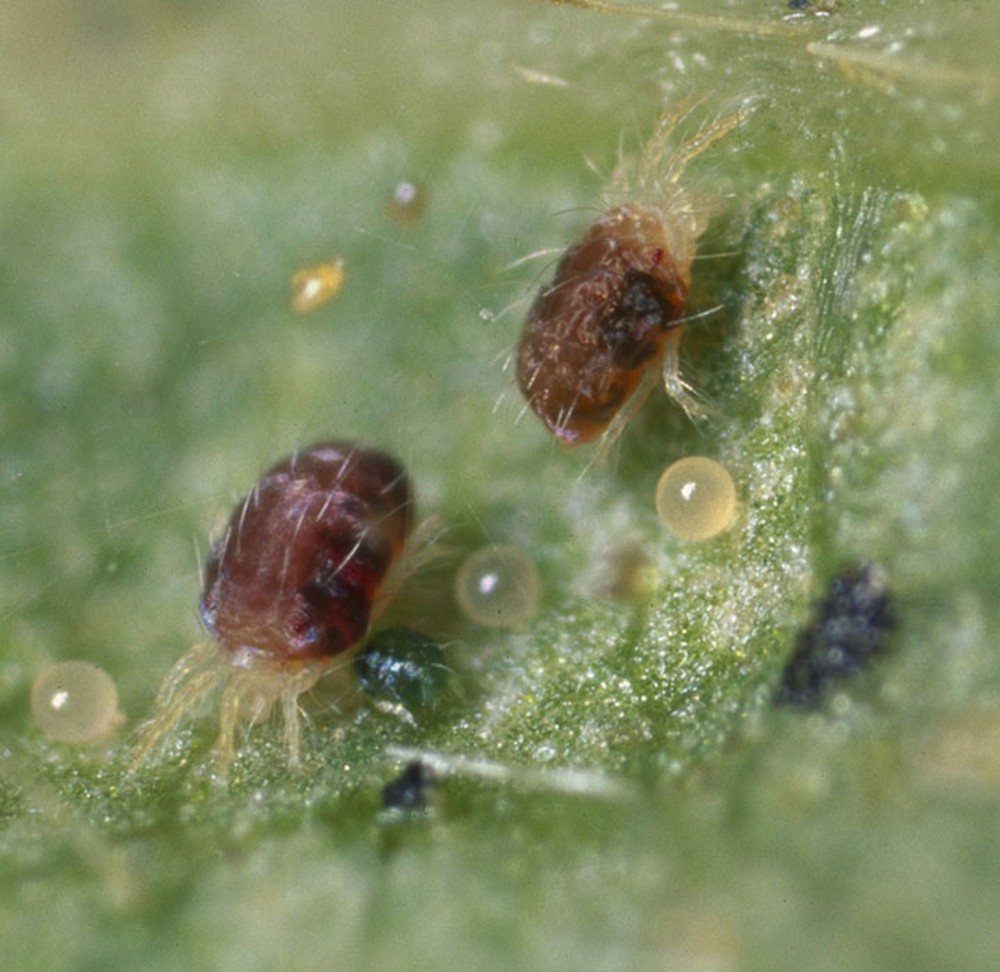Aracnido Rojo: (113, 421, 454, 773), (461, 104, 773, 469)
